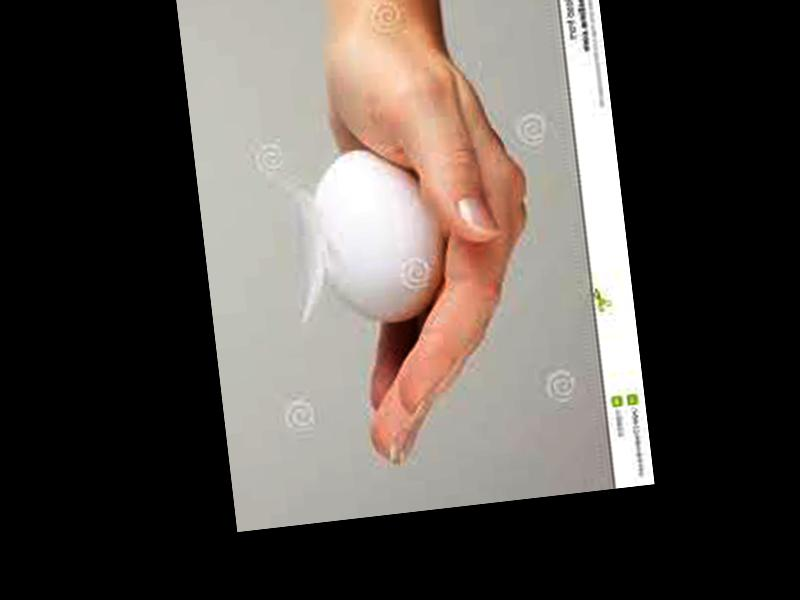Eggs: (310, 140, 451, 332)
